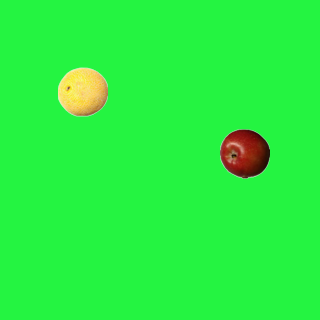Apple Braeburn: (219, 128, 269, 178)
Cantaloupe 1: (57, 66, 107, 116)
